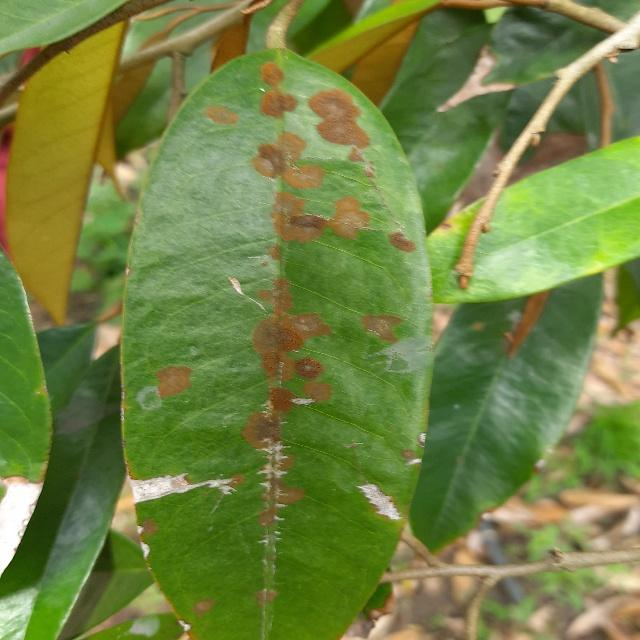Algal Leaf Spot: (111, 37, 442, 640)
